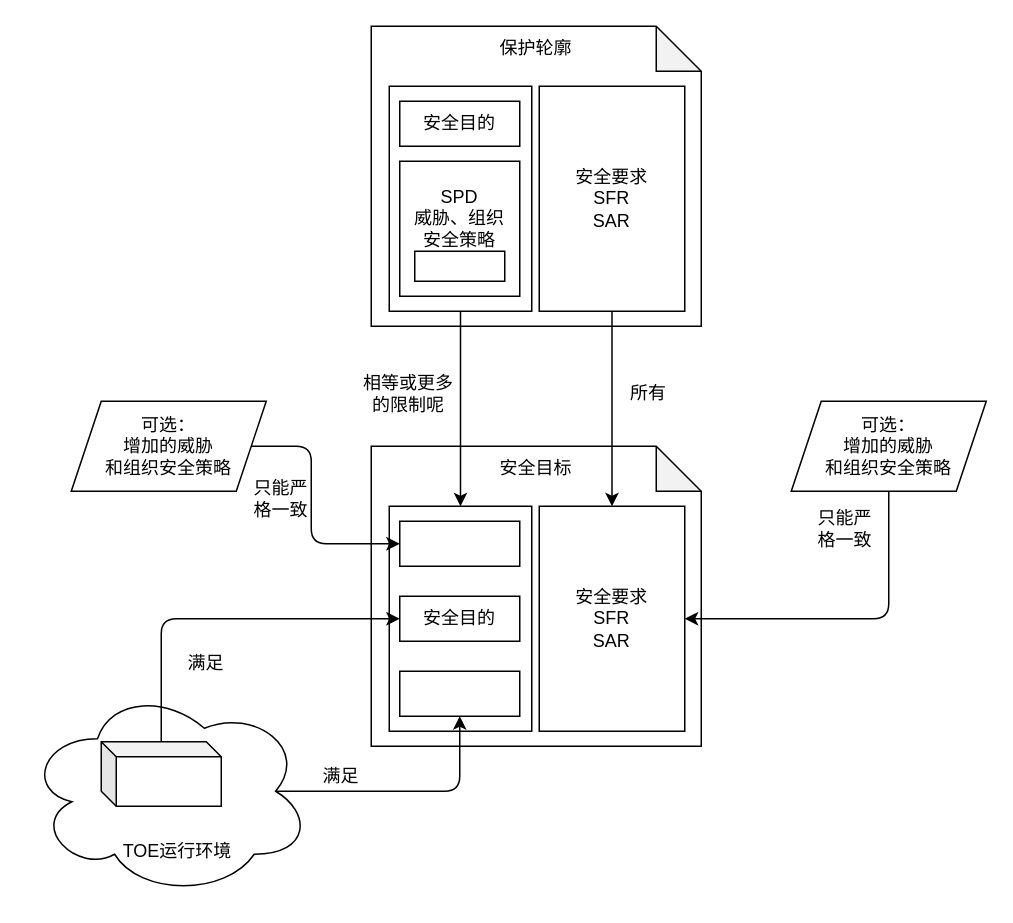
This 1013x923 diagram has some shape labels left out. Here are the shapes that lost their labels. From the top down, the centre of each, then its label:
At point (459, 265): "运行环境".
At point (459, 543): "SPD 威胁、OSP目的".
At point (459, 693): "运行环境假设".
At point (160, 773): "TOE".
